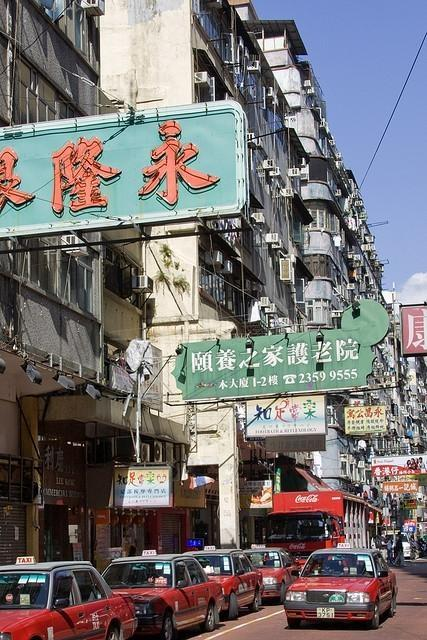car: (0, 556, 141, 640), (282, 549, 400, 629), (108, 560, 226, 640), (188, 546, 266, 620), (243, 546, 301, 604)
truck: (264, 490, 344, 550)
